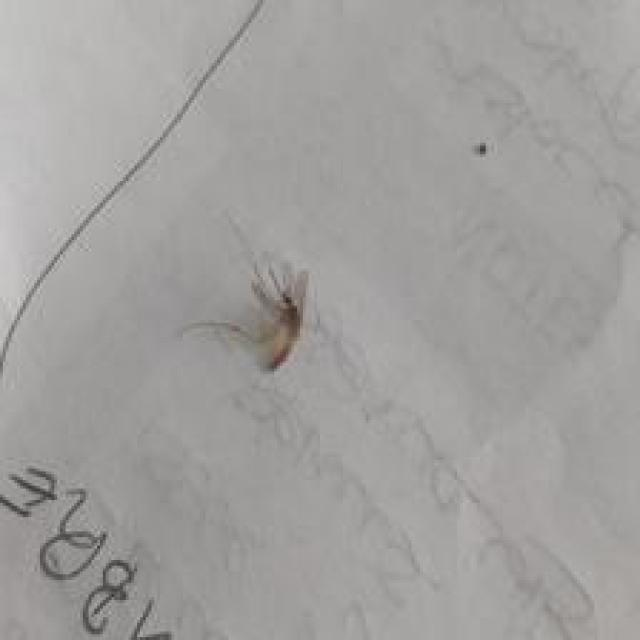Culex: (177, 256, 312, 373)
